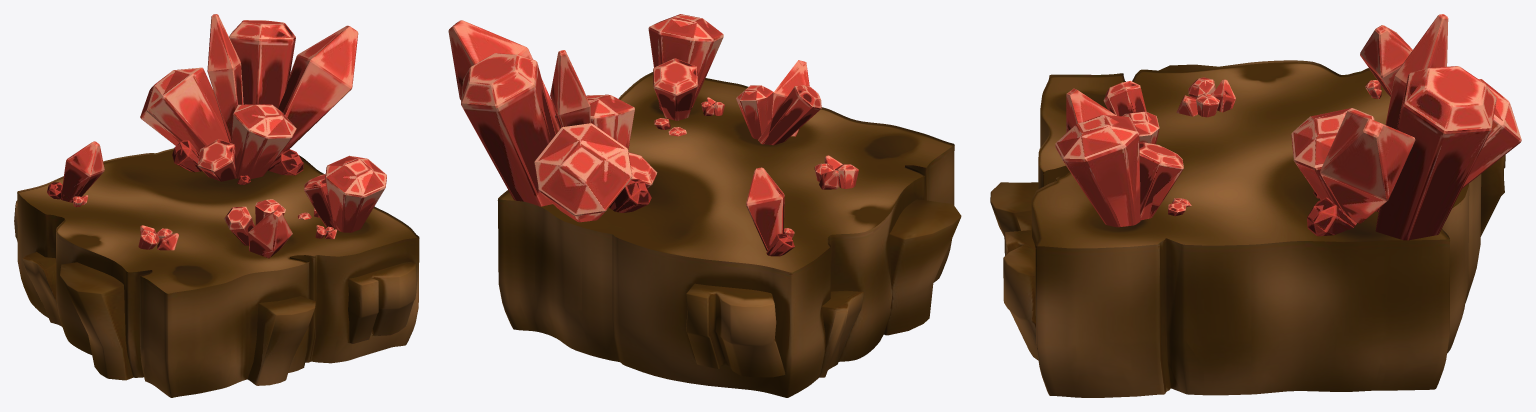
Rendered from land-B.glb.
The picture shows the model from 3 angles, left to right: view 1: azimuth 30°, elevation 25°; view 2: azimuth 150°, elevation 25°; view 3: azimuth 270°, elevation 25°; orthographic projection. The views are drawn at different scales.
Parts seen in each view (by area): view 1: Land; view 2: Land; view 3: Land.
Part boxes in pixels (x1,y1,x2,y2): Land: [14, 14, 419, 397]; Land: [448, 14, 961, 397]; Land: [990, 14, 1521, 397].
Bounding box in the file's own units: 10.39 × 6.83 × 9.54.
1 material, 1 textured.
